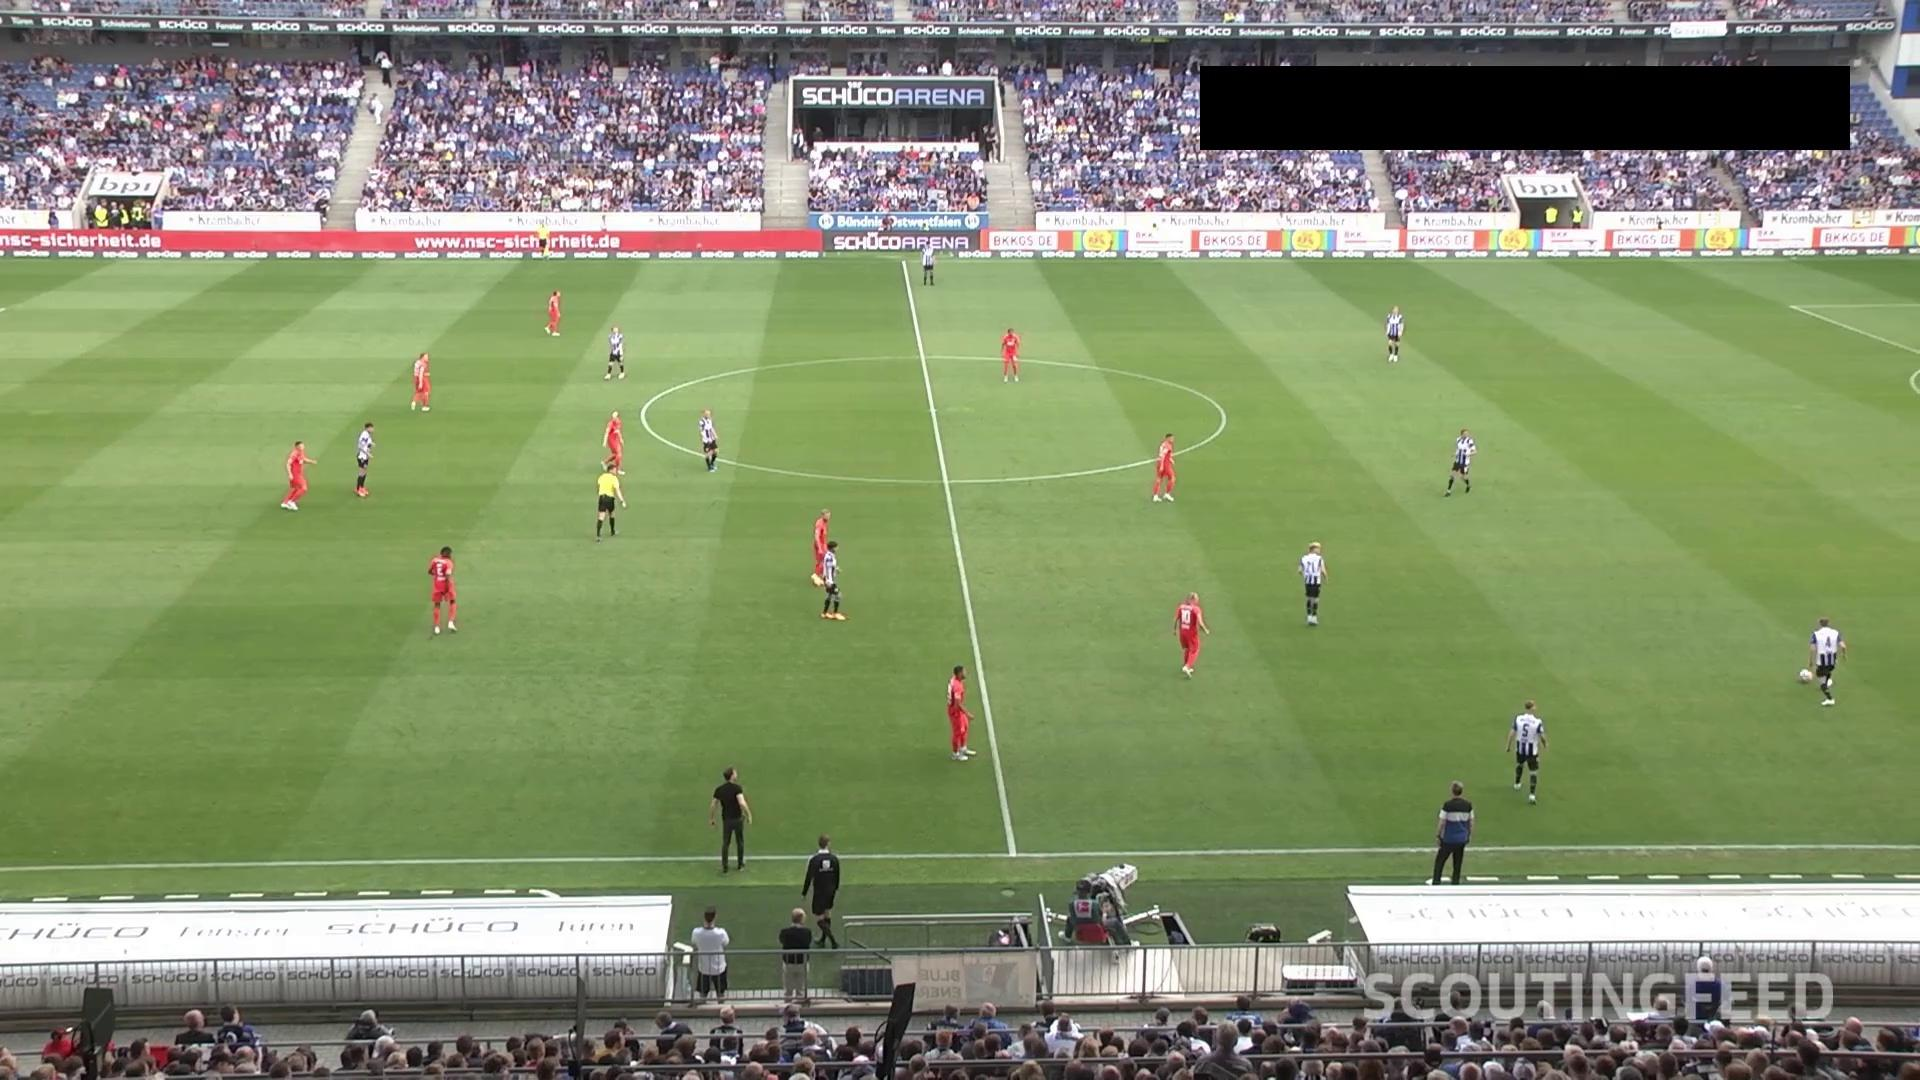Location-of-ball: (1793, 663, 1822, 690)
